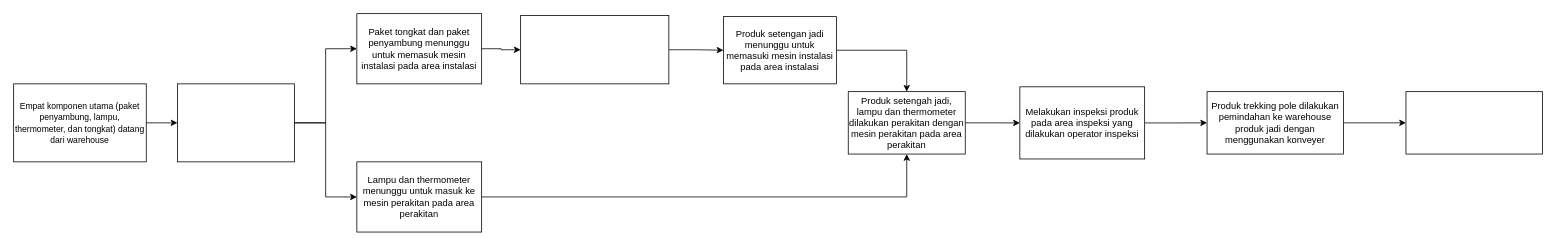
Some shapes in this 1556 by 246 pixel diagram are drawn without their labels. Each missing label, with the centre of its shape:
"Keempat komponen utama dilakukan pemisahan dengan menggunakan mesin pemisah" goes at (235,122).
"Paket penyambung dan paket tongkat dirakit dengan menggunakan mesin instalasi" goes at (594,49).
"Produk trekking pole disimpan di warehouse produk jadi" goes at (1473,122).
